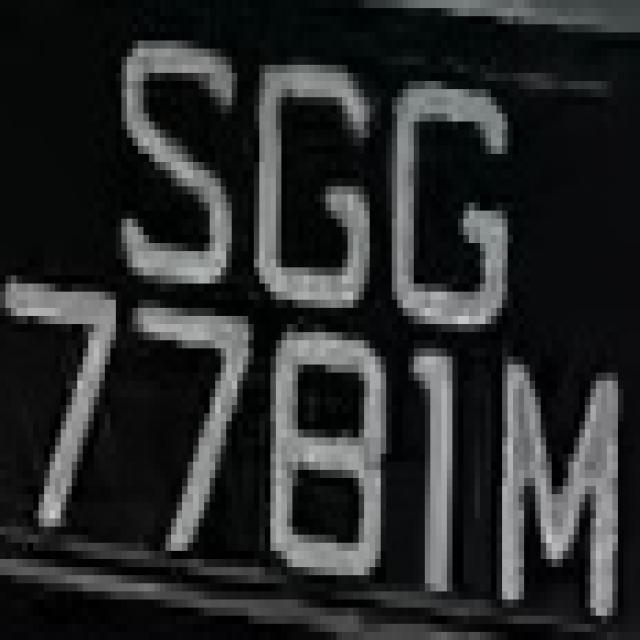1: (403, 332, 463, 608)
7: (122, 243, 248, 575), (5, 243, 127, 535)
8: (248, 324, 386, 591)
G: (381, 57, 524, 332), (237, 32, 364, 324)
M: (486, 340, 624, 632)
S: (110, 32, 238, 308)
